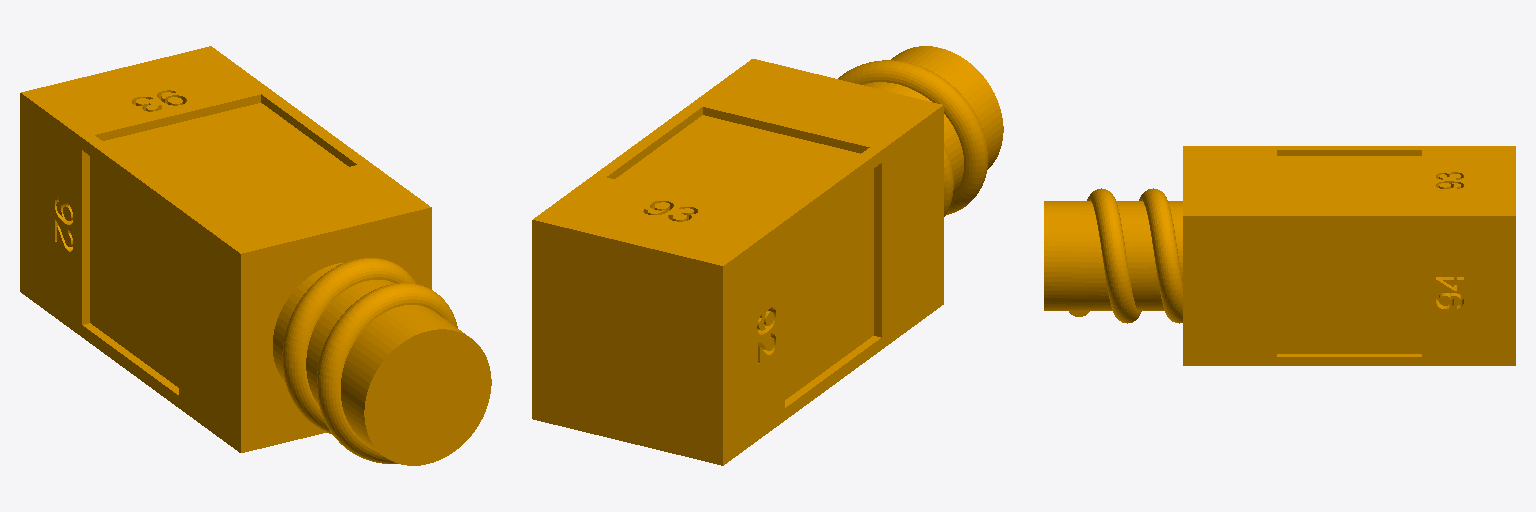
URDF robot description (chair_leg1):
<?xml version="1.0"?>
<robot name="chair_leg1">
    <link name="chair_leg1">
        <visual>
            <geometry>
                <mesh filename="../../mesh/chair/chair_leg1.obj" scale="1 1 1"/>
            </geometry>
        </visual>
        <collision>
            <geometry>
                <mesh filename="../../mesh/chair/chair_leg1.obj" scale="1 1 1"/>
            </geometry>
            <sdf resolution="512"/>
        </collision>
        <!-- <inertial>
            <mass value="1."/>
            <inertia ixx="0.0001" ixy="0.0" ixz="0.0" iyy="0.0001" iyz="0.0" izz="0.0001"/>
        </inertial> -->
    </link>
</robot>

--- What the picture shows (computed from the rendered views, not written in the file) ---
3 views of the same robot in one strip: view 1: azimuth 30°, elevation 25°; view 2: azimuth 150°, elevation 25°; view 3: azimuth 270°, elevation 25° (orthographic).
Model chair_leg1 with 1 links and 0 joints (none), rooted at chair_leg1, posed all joints at 0.
Visible links, largest first — view 1: chair_leg1; view 2: chair_leg1; view 3: chair_leg1.
Boxes of the visible links, x1=… form: chair_leg1: x1=20, y1=46, x2=491, y2=465; chair_leg1: x1=532, y1=46, x2=1003, y2=465; chair_leg1: x1=1044, y1=146, x2=1515, y2=365.
Size in the robot's own frame: 0.03 by 0.085 by 0.03 metres.
Meshes: 1 distinct files referenced, 1 mesh visuals loaded (1 OBJ).